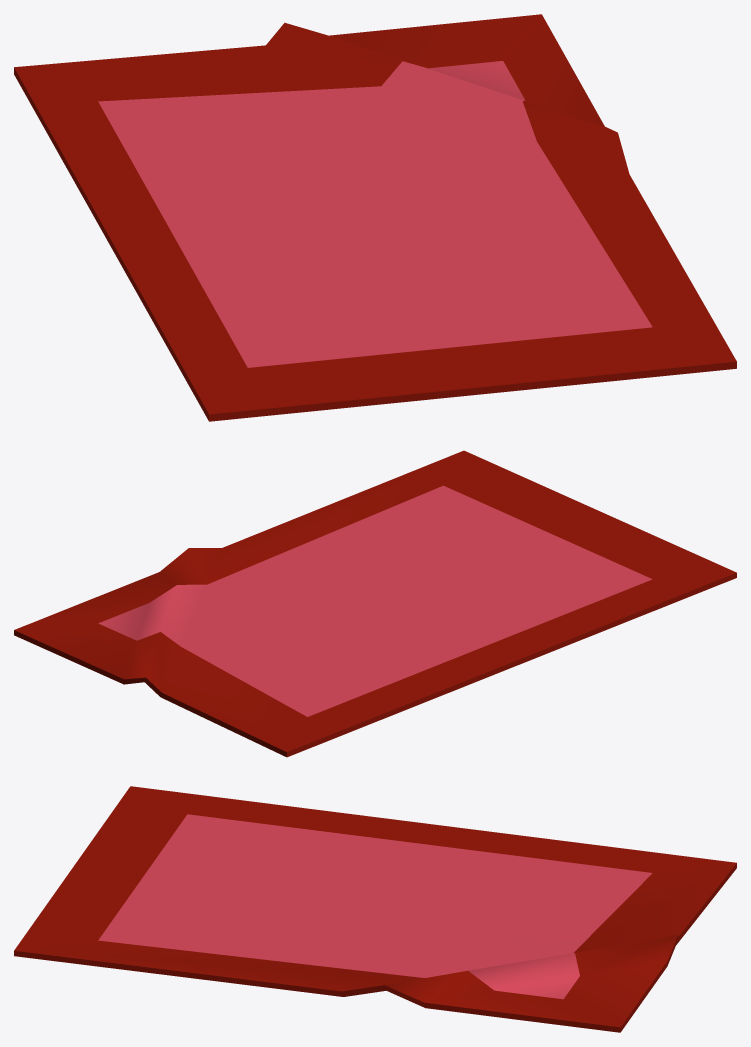
Rendered from Carpet_mb.fbx.
3 renders of one model, top to bottom at view 1: azimuth 30°, elevation 25°; view 2: azimuth 150°, elevation 25°; view 3: azimuth 270°, elevation 25°, orthographic. The views are drawn at different scales.
Visible parts, largest first — view 1: Carpet; view 2: Carpet; view 3: Carpet.
Boxes of the visible parts, box(x1,y1,x2,y2) form: Carpet: box(14, 14, 736, 421); Carpet: box(14, 450, 736, 757); Carpet: box(14, 786, 736, 1032).
Bounding box in the file's own units: 219 × 7.58 × 277.
